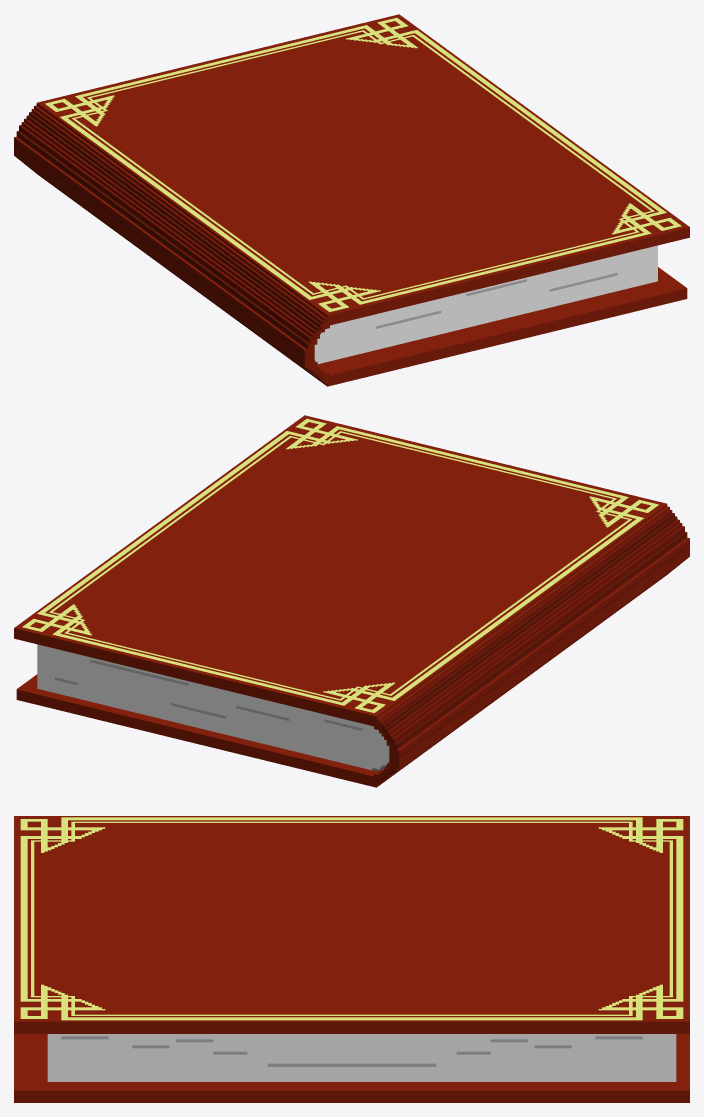
File: book.obj
The picture shows the model from 3 angles, top to bottom: view 1: azimuth 30°, elevation 25°; view 2: azimuth 150°, elevation 25°; view 3: azimuth 270°, elevation 25°; orthographic projection. The views are drawn at different scales.
Size of the model in its own units: 15.3 by 2.7 by 20.
Materials: 1 (1 with a texture image).
